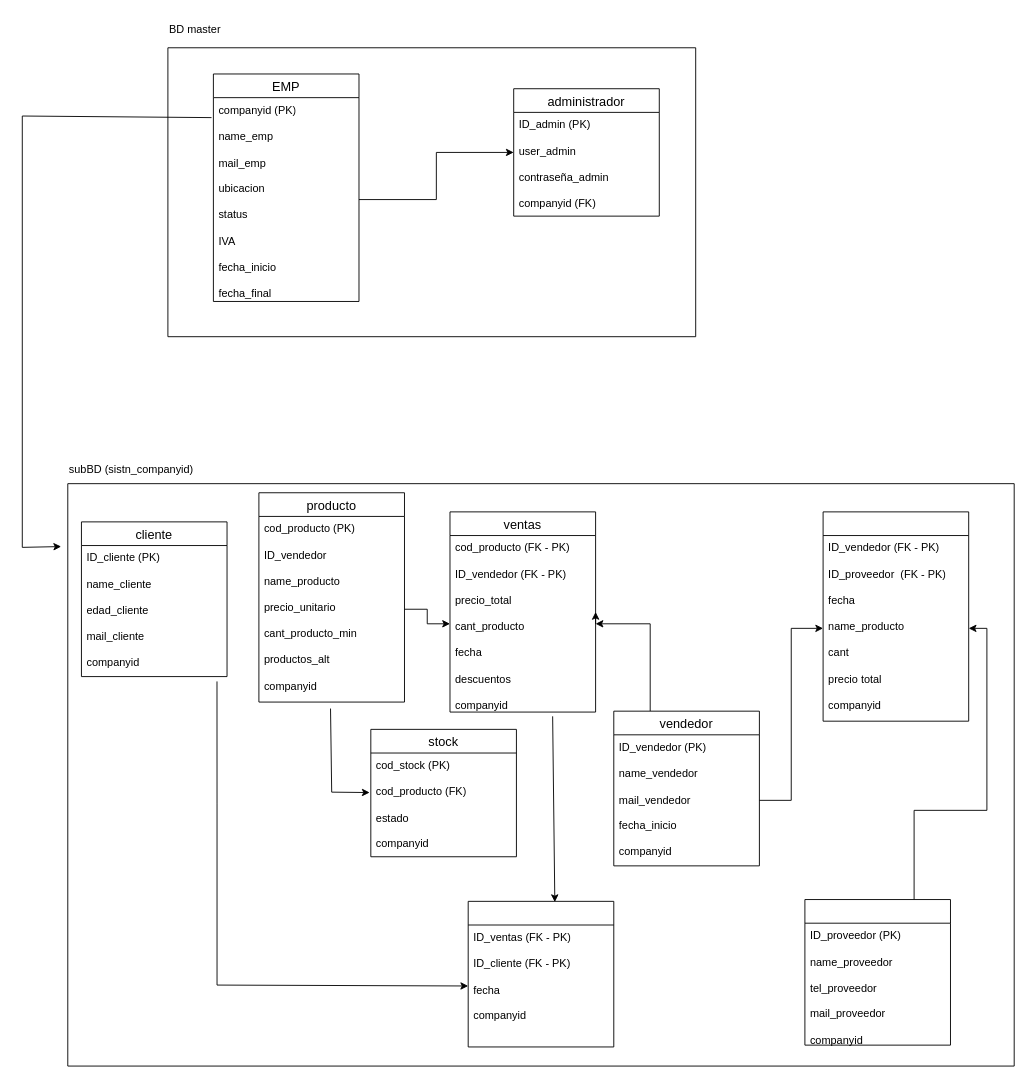
The diagram is 1030 pixels wide and 1082 high, and some of its shapes have lost their labels. The box of each missing label's shape, as (x1, y1, x2, y2) in pixels:
informes: (467, 900, 614, 1047)
proveedore: (804, 899, 950, 1045)
venta_proveedor: (822, 511, 969, 721)
